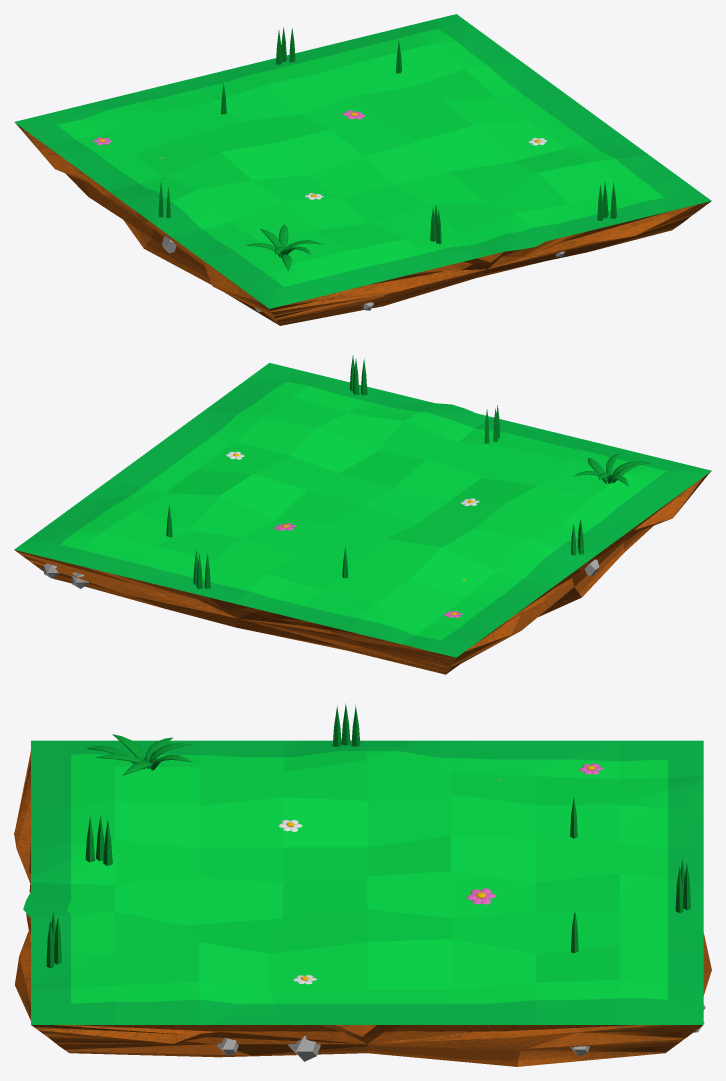
The model's file is grassflowerpinkwhite.fbx.
3 renders of one model, top to bottom at view 1: azimuth 30°, elevation 25°; view 2: azimuth 150°, elevation 25°; view 3: azimuth 270°, elevation 25°, orthographic. The views are drawn at different scales.
Visible parts, largest first — view 1: pCube1, GrassesGRPpolySurface493; view 2: pCube1, GrassesGRPpolySurface493; view 3: pCube1, GrassesGRPpolySurface493.
Boxes of the visible parts, bbox=[...] form: pCube1: bbox=[14, 14, 711, 325]; GrassesGRPpolySurface493: bbox=[245, 224, 322, 270]; pCube1: bbox=[14, 363, 711, 674]; GrassesGRPpolySurface493: bbox=[573, 453, 650, 485]; pCube1: bbox=[14, 740, 711, 1066]; GrassesGRPpolySurface493: bbox=[86, 734, 192, 775].
Size of the model in its own units: 101 by 14.79 by 102.
7 materials, 2 textured.
